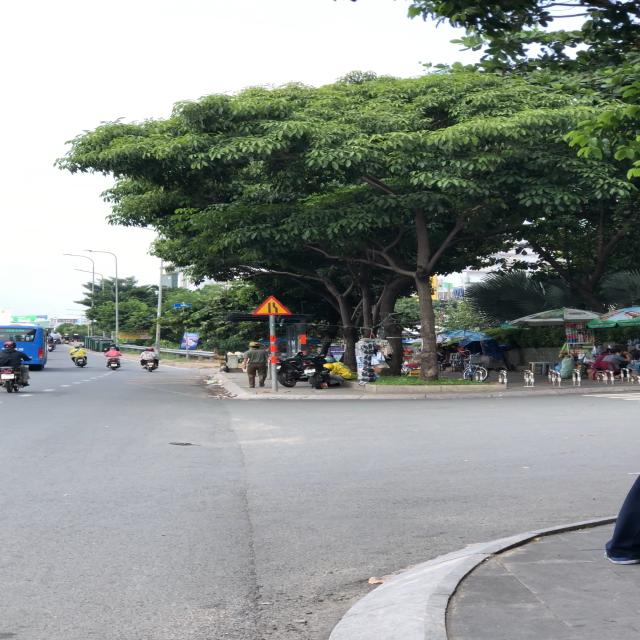Bien bao duong bi thu hep: (250, 294, 295, 316)
